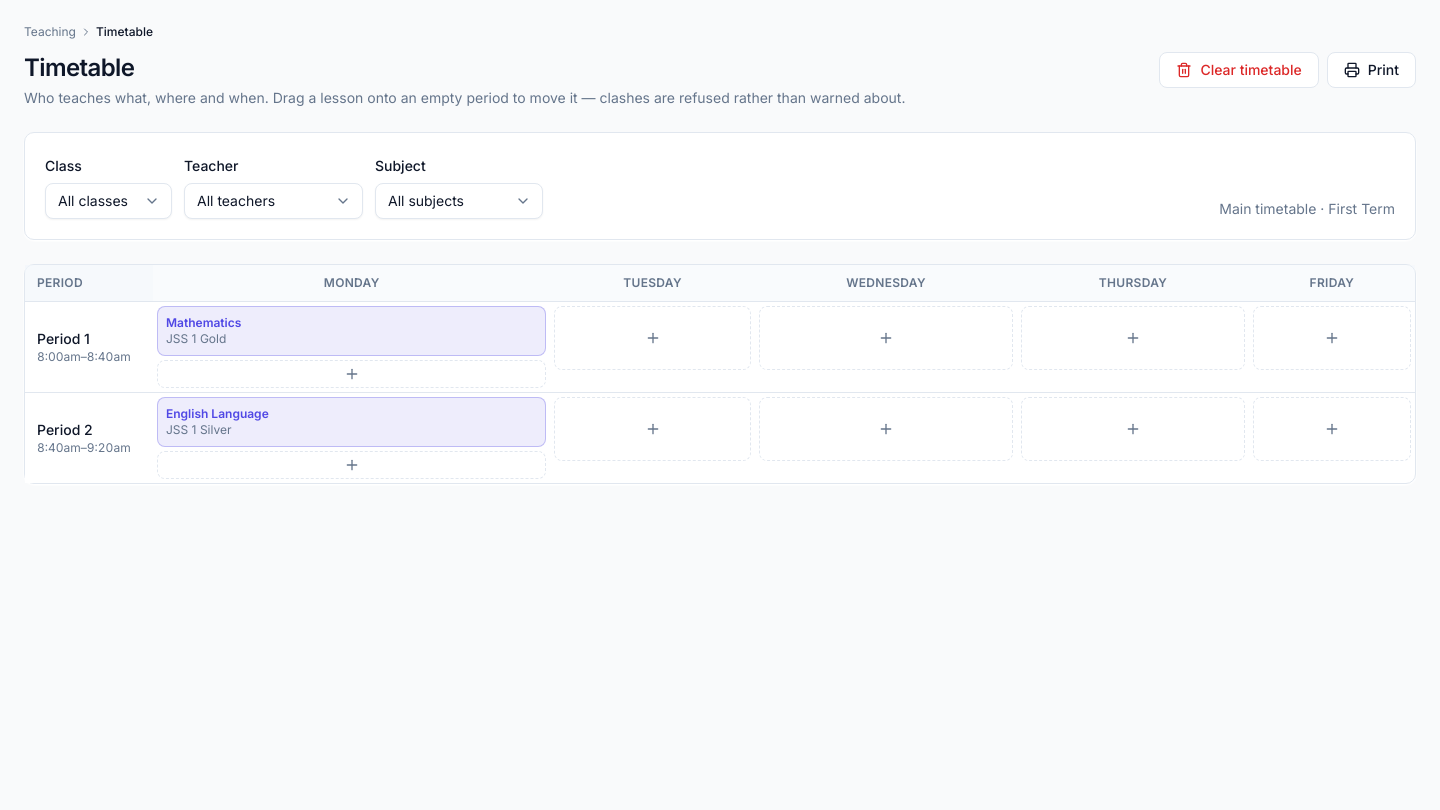
TimetablePage › offers an add button on a period that already holds a lesson, to place a second class into it
The image size is (1440, 810).
expect the button "Mathematics JSS 1 Gold" is shown: met, box [157,306,546,356]
Note: Monday/Period 2 already has JSS 1 Silver's English lesson.
Click the button named "Add a lesson on Monday in Period 2": click(352, 465) [157,451,546,479]
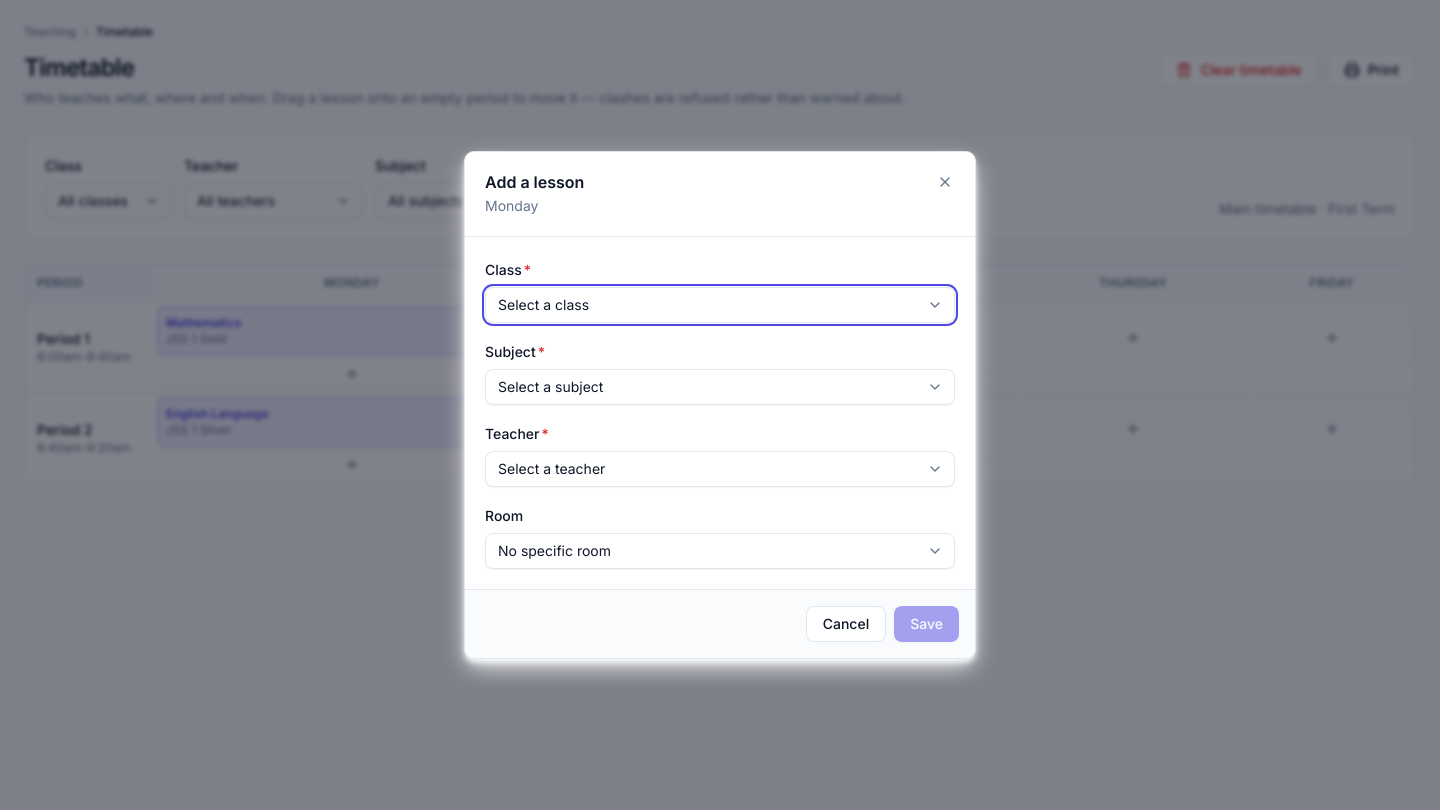
expect the button "English Language JSS 1 Silver" is shown: met, box [157,397,546,447]
expect the heading "Add a lesson" is shown: met, box [485,172,584,192]
